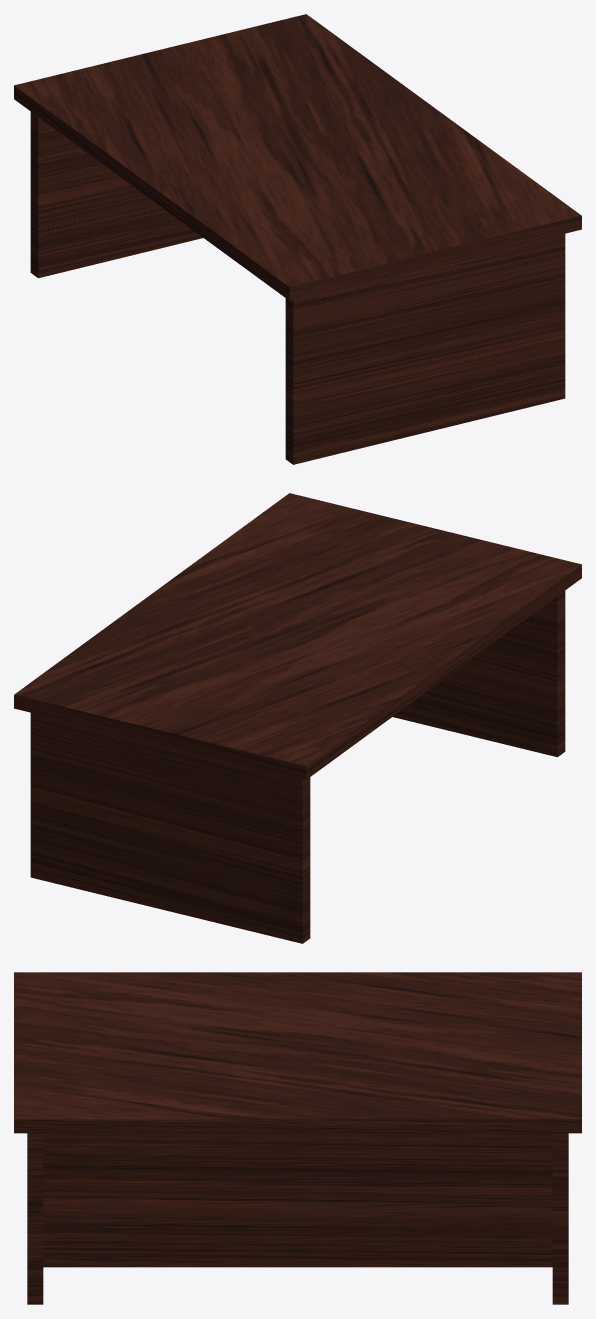
Rendered from Desk.fbx.
The picture shows the model from 3 angles, top to bottom: view 1: azimuth 30°, elevation 25°; view 2: azimuth 150°, elevation 25°; view 3: azimuth 270°, elevation 25°; orthographic projection. The views are drawn at different scales.
Visible parts, largest first — view 1: Desk; view 2: Desk; view 3: Desk.
Boxes of the visible parts, x1,y1,x2,y2 form: Desk: [14, 14, 581, 464]; Desk: [14, 493, 581, 943]; Desk: [14, 972, 581, 1304].
Bounding box in the file's own units: 381 × 230 × 621.
